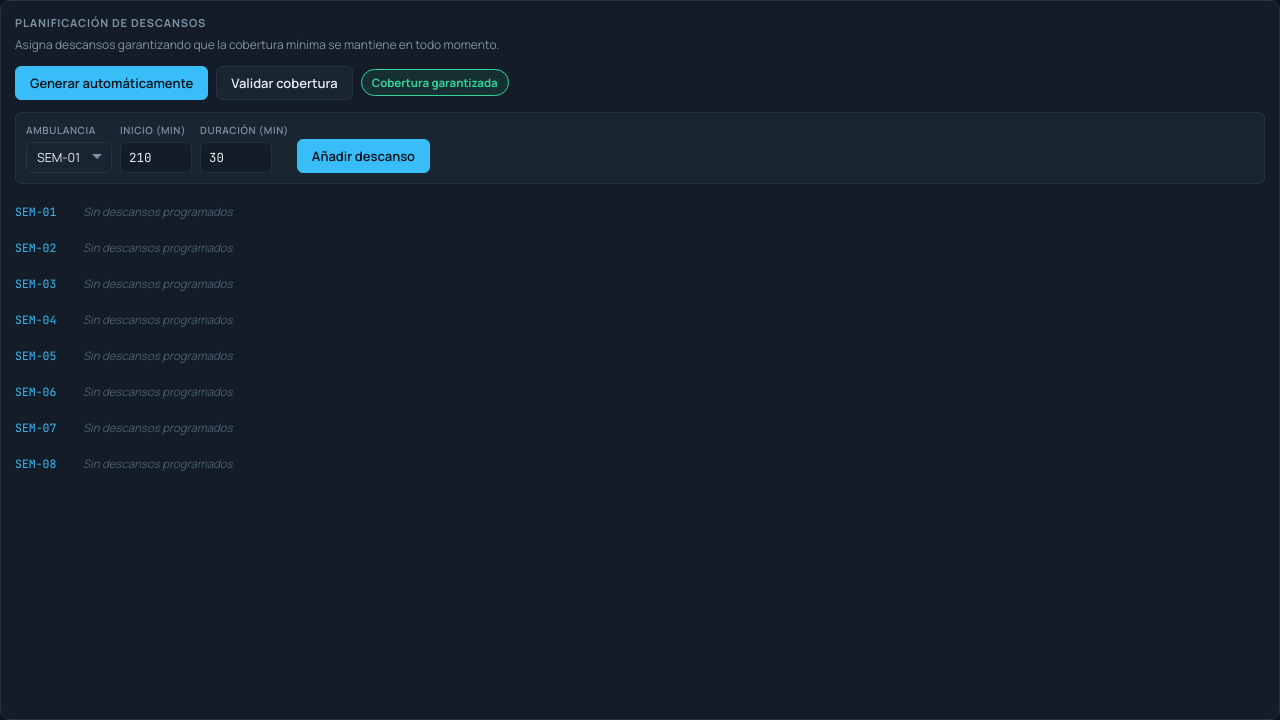
BreaksPanel › removing a break › removes break chip when remove button is clicked
The image size is (1280, 720).
Click the button "Añadir descanso": point(364, 156) [297,138,430,172]
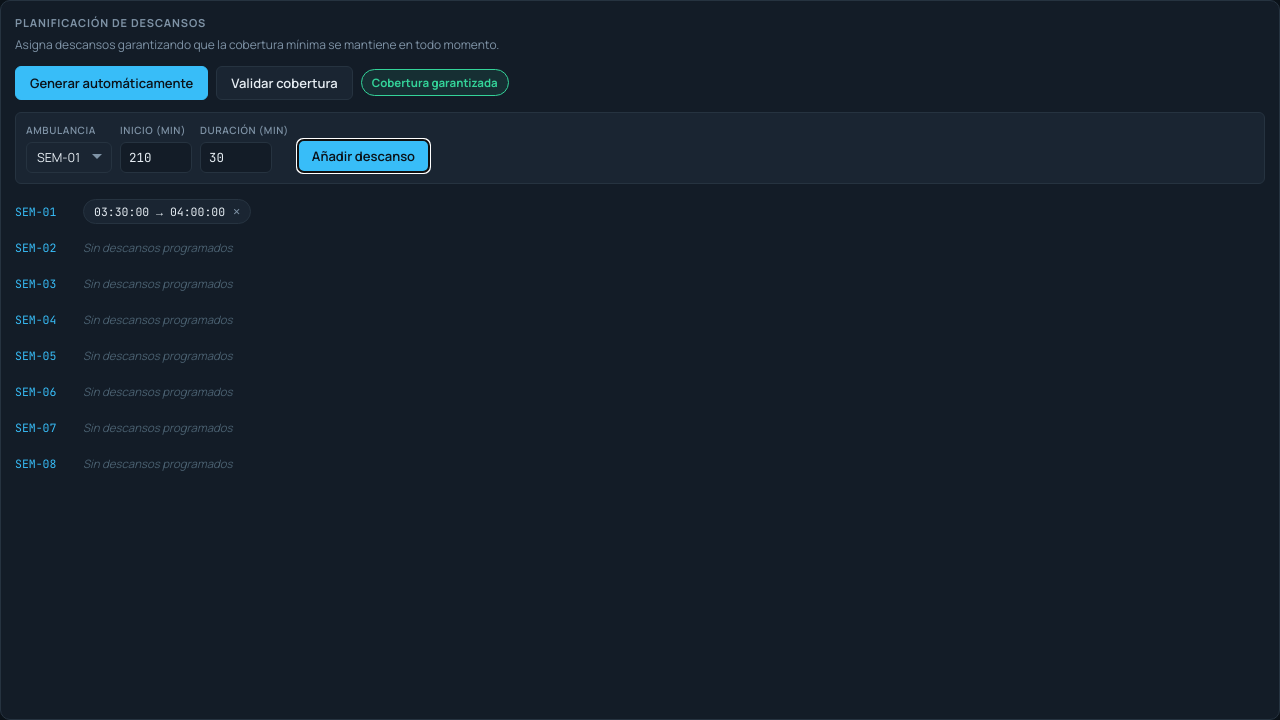
Click the button "×": point(237, 212) [231,204,242,219]
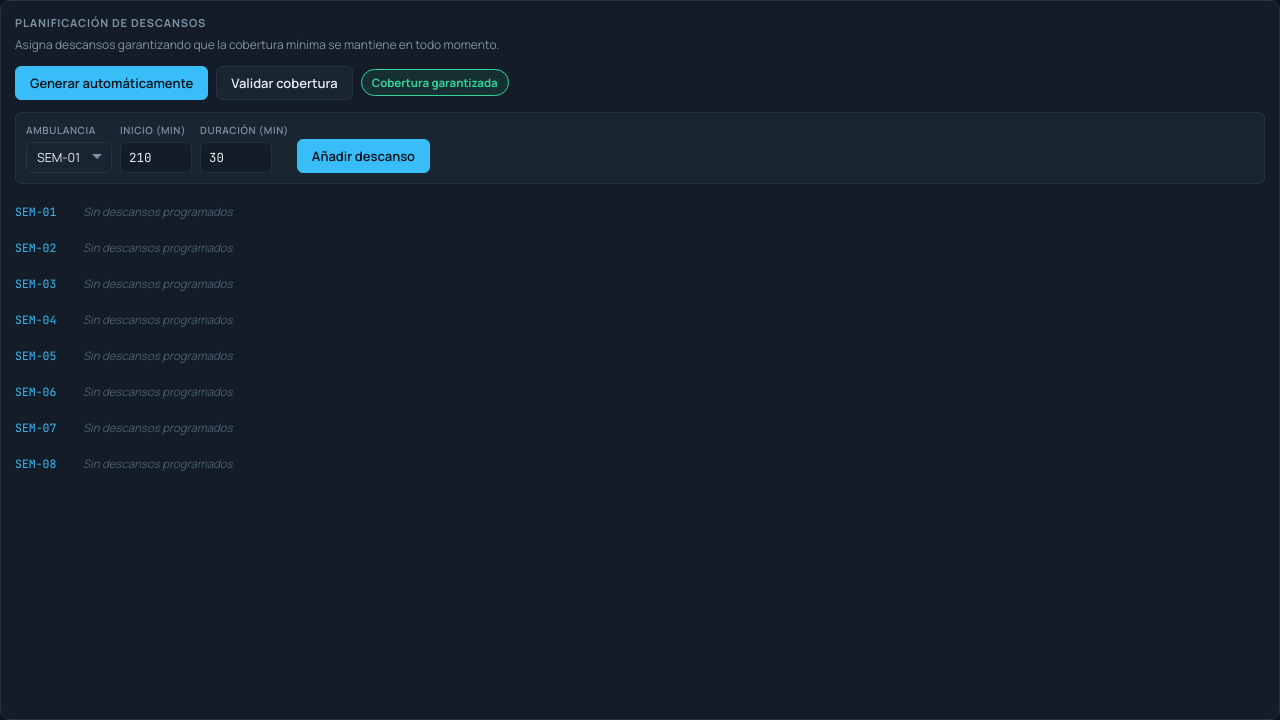
Check: no elements with test id "break-chip" are shown
